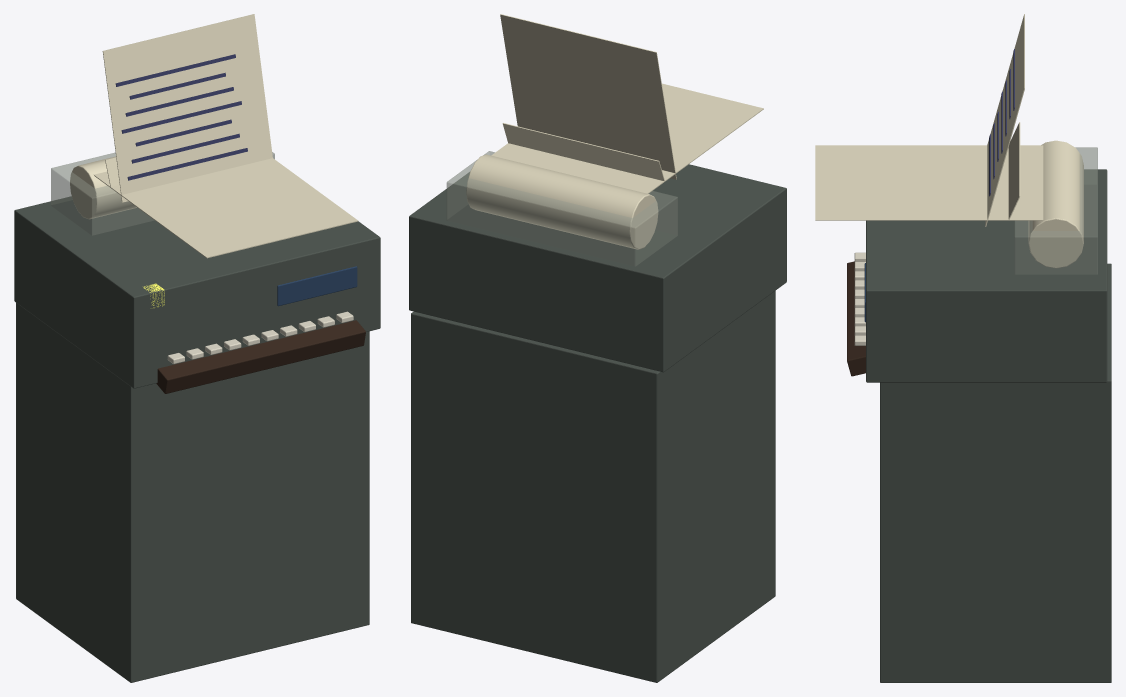
Rendered from PROP_Teleprinter_Historic.glb.
3 renders of one model, left to right at view 1: azimuth 30°, elevation 25°; view 2: azimuth 150°, elevation 25°; view 3: azimuth 270°, elevation 25°, orthographic. The views are drawn at different scales.
Parts seen in each view (by area): view 1: PROP_Teleprinter_Historic_Mesh, PROP_Teleprinter_Historic_Sheet_Printed; view 2: PROP_Teleprinter_Historic_Mesh, PROP_Teleprinter_Historic_Sheet_Printed, PROP_Teleprinter_Historic_Sheet_Idle; view 3: PROP_Teleprinter_Historic_Mesh, PROP_Teleprinter_Historic_Sheet_Printed, PROP_Teleprinter_Historic_Sheet_Idle.
Boxes of the visible parts, x1,y1,x2,y2 form: PROP_Teleprinter_Historic_Mesh: (14,152,380,682); PROP_Teleprinter_Historic_Sheet_Printed: (94,14,358,258); PROP_Teleprinter_Historic_Mesh: (409,151,786,682); PROP_Teleprinter_Historic_Sheet_Printed: (491,14,763,193); PROP_Teleprinter_Historic_Sheet_Idle: (502,123,664,181); PROP_Teleprinter_Historic_Mesh: (847,140,1111,682); PROP_Teleprinter_Historic_Sheet_Printed: (815,14,1043,226); PROP_Teleprinter_Historic_Sheet_Idle: (1008,122,1020,219).
Size of what is drawn, in the model's own units: 0.62 by 1.36 by 0.64.
